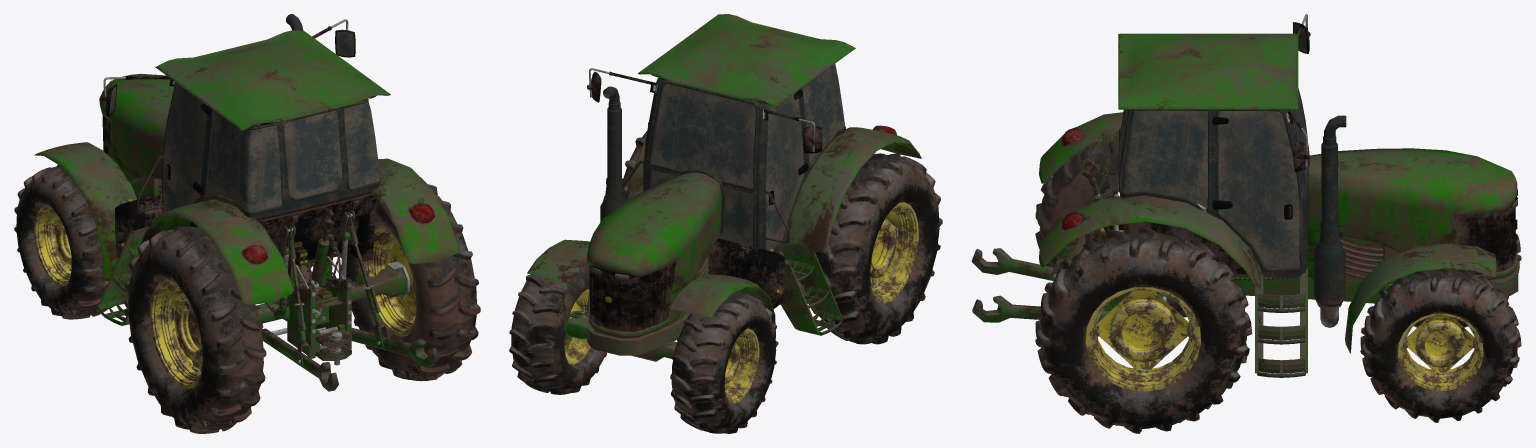
The model's file is tractor-optimized.glb.
3 renders of one model, left to right at view 1: azimuth 30°, elevation 25°; view 2: azimuth 150°, elevation 25°; view 3: azimuth 270°, elevation 25°, orthographic. The views are drawn at different scales.
Visible parts, largest first — view 1: group2_pasted__pCube14_pasted__pCube14, pCylinder87, polySurface225, pCylinder85, pCylinder90, polySurface189, polySurface211, polySurface212, polySurface198, polySurface200, polySurface164, polySurface166 (+7 smaller); view 2: group2_pasted__pCube14_pasted__pCube14, pCylinder87, pCylinder90, polySurface211, polySurface225, pCylinder88, polySurface189, polySurface198, polySurface202, polySurface222, polySurface186, polySurface183 (+4 smaller); view 3: group2_pasted__pCube14_pasted__pCube14, pCylinder85, pCylinder88, polySurface211, polySurface225, polySurface212, pCylinder87, polySurface202, polySurface189, polySurface226, polySurface166, polySurface142 (+5 smaller).
Boxes of the visible parts, left/top/right/bottom form: group2_pasted__pCube14_pasted__pCube14: left=101, top=14, right=434, bottom=365; pCylinder87: left=124, top=226, right=266, bottom=433; polySurface225: left=155, top=30, right=390, bottom=131; pCylinder85: left=340, top=178, right=480, bottom=381; pCylinder90: left=14, top=165, right=113, bottom=319; polySurface189: left=141, top=199, right=294, bottom=304; polySurface211: left=99, top=73, right=174, bottom=184; polySurface212: left=371, top=158, right=460, bottom=264; polySurface198: left=34, top=142, right=136, bottom=280; polySurface200: left=256, top=267, right=406, bottom=323; polySurface164: left=315, top=323, right=439, bottom=367; polySurface166: left=261, top=328, right=338, bottom=391; group2_pasted__pCube14_pasted__pCube14: left=570, top=64, right=896, bottom=331; pCylinder87: left=815, top=153, right=942, bottom=344; pCylinder90: left=670, top=291, right=778, bottom=433; polySurface211: left=586, top=172, right=722, bottom=337; polySurface225: left=637, top=14, right=855, bottom=107; pCylinder88: left=509, top=264, right=606, bottom=394; polySurface189: left=785, top=127, right=921, bottom=253; polySurface198: left=668, top=274, right=775, bottom=337; polySurface202: left=527, top=239, right=589, bottom=283; polySurface222: left=587, top=313, right=690, bottom=355; polySurface186: left=778, top=244, right=841, bottom=315; polySurface183: left=780, top=264, right=819, bottom=334; group2_pasted__pCube14_pasted__pCube14: left=1053, top=14, right=1517, bottom=327; pCylinder85: left=1035, top=227, right=1252, bottom=433; pCylinder88: left=1360, top=269, right=1521, bottom=422; polySurface211: left=1309, top=148, right=1517, bottom=279; polySurface225: left=1118, top=33, right=1298, bottom=109; polySurface212: left=1039, top=195, right=1261, bottom=293; pCylinder87: left=1035, top=141, right=1186, bottom=317; polySurface202: left=1345, top=243, right=1496, bottom=353; polySurface189: left=1039, top=112, right=1123, bottom=183; polySurface226: left=1308, top=230, right=1511, bottom=289; polySurface166: left=971, top=248, right=1169, bottom=302; polySurface142: left=1233, top=274, right=1383, bottom=303.
Size of the model in its own units: 281 by 306 by 479.
3 materials, 3 textured.
